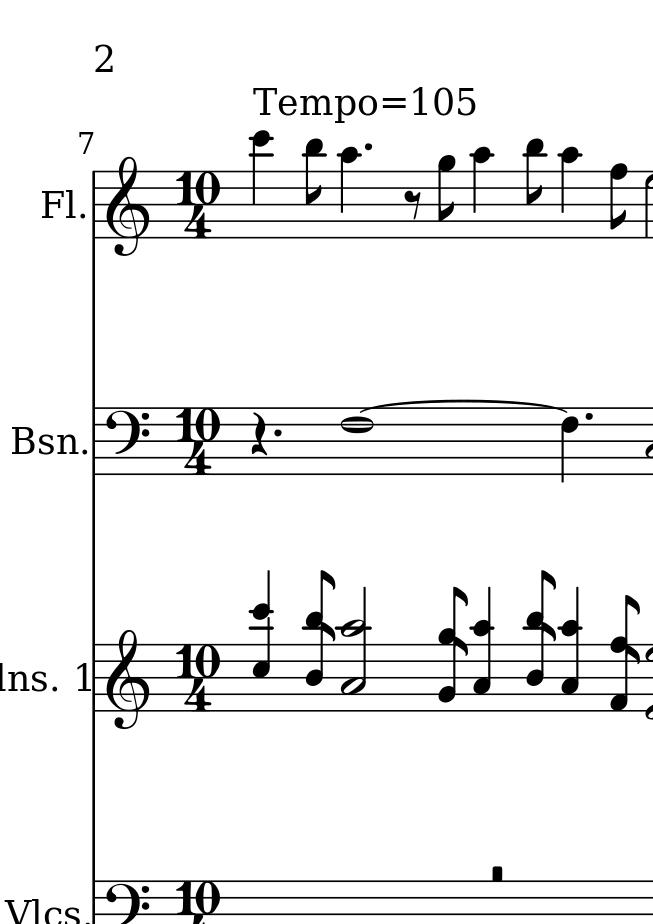0: (195, 406, 225, 441), (195, 171, 221, 203), (196, 643, 220, 676)
1: (175, 641, 196, 679), (176, 170, 195, 206), (177, 408, 196, 440)
1_6: (339, 406, 374, 478)
2: (93, 43, 114, 72)
2_3_10: (339, 585, 372, 712)
4: (176, 442, 224, 475), (174, 677, 220, 710), (177, 203, 220, 238)
4_10: (469, 144, 494, 241), (558, 144, 582, 240), (338, 145, 360, 240)
4_12: (249, 127, 275, 240)
4_3_10: (559, 585, 582, 714), (473, 585, 493, 715)
4_5_12: (250, 569, 274, 715)
4_6: (559, 405, 584, 484)
7: (78, 129, 96, 155)
8_11: (302, 137, 327, 240), (523, 138, 547, 239)
8_1_8: (609, 595, 642, 715)
8_2_9: (436, 586, 469, 713)
8_4_11: (525, 569, 557, 714), (303, 569, 335, 712)
8_8: (608, 160, 630, 240)
8_9: (435, 153, 458, 240)
Bsn: (10, 421, 76, 462)
Fclef: (103, 402, 153, 477)
Fl: (35, 187, 81, 223)
Gclef: (102, 629, 156, 733), (106, 156, 152, 259)
Rests4: (245, 407, 270, 457)
Rests8: (402, 185, 424, 219)
Single_barline: (87, 169, 102, 239), (88, 644, 102, 713), (87, 408, 101, 476)
TimeSig: (172, 407, 227, 476), (174, 643, 224, 715), (175, 169, 222, 240)
Vlc: (2, 895, 68, 924)
dot: (581, 408, 597, 425), (362, 140, 374, 156), (272, 427, 283, 438)
